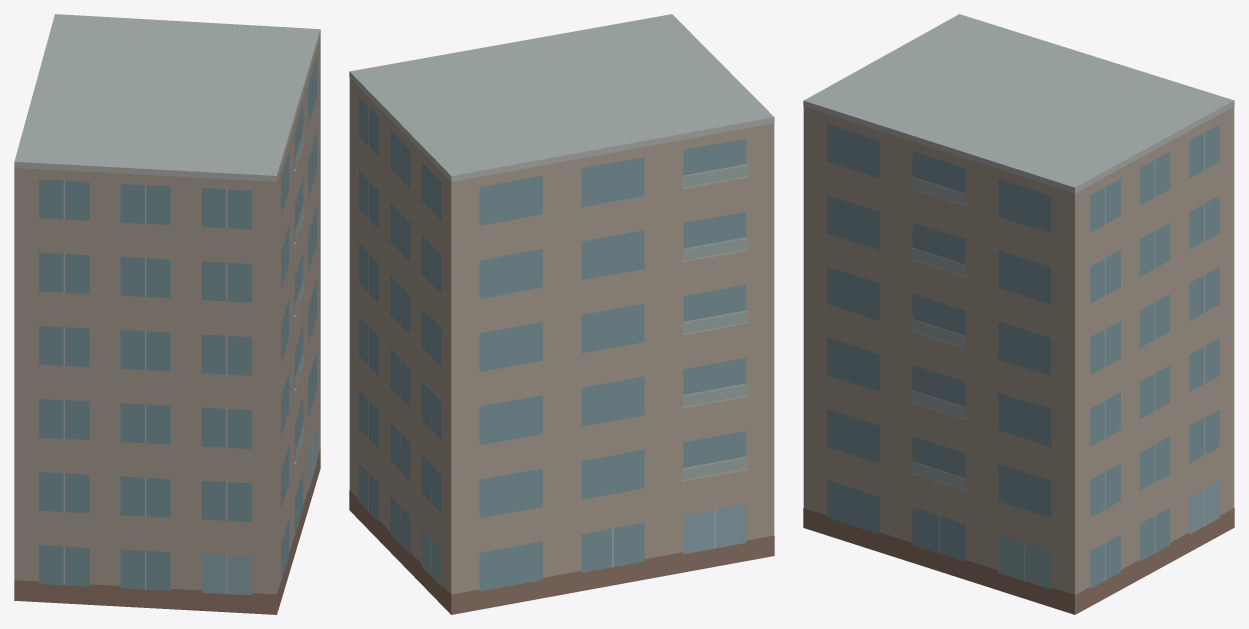
The model's file is survey-upis-32913358.glb.
3 renders of one model, left to right at view 1: azimuth 30°, elevation 25°; view 2: azimuth 150°, elevation 25°; view 3: azimuth 270°, elevation 25°, orthographic. The views are drawn at different scales.
Visible parts, largest first — view 1: survey-upis-32913358.tmp; view 2: survey-upis-32913358.tmp; view 3: survey-upis-32913358.tmp.
Part boxes in pixels (<box>): survey-upis-32913358.tmp: <box>14,14,320,614</box>; survey-upis-32913358.tmp: <box>349,14,774,614</box>; survey-upis-32913358.tmp: <box>803,14,1234,614</box>.
Bounding box in the file's own units: 15.62 × 17.9 × 16.37.
